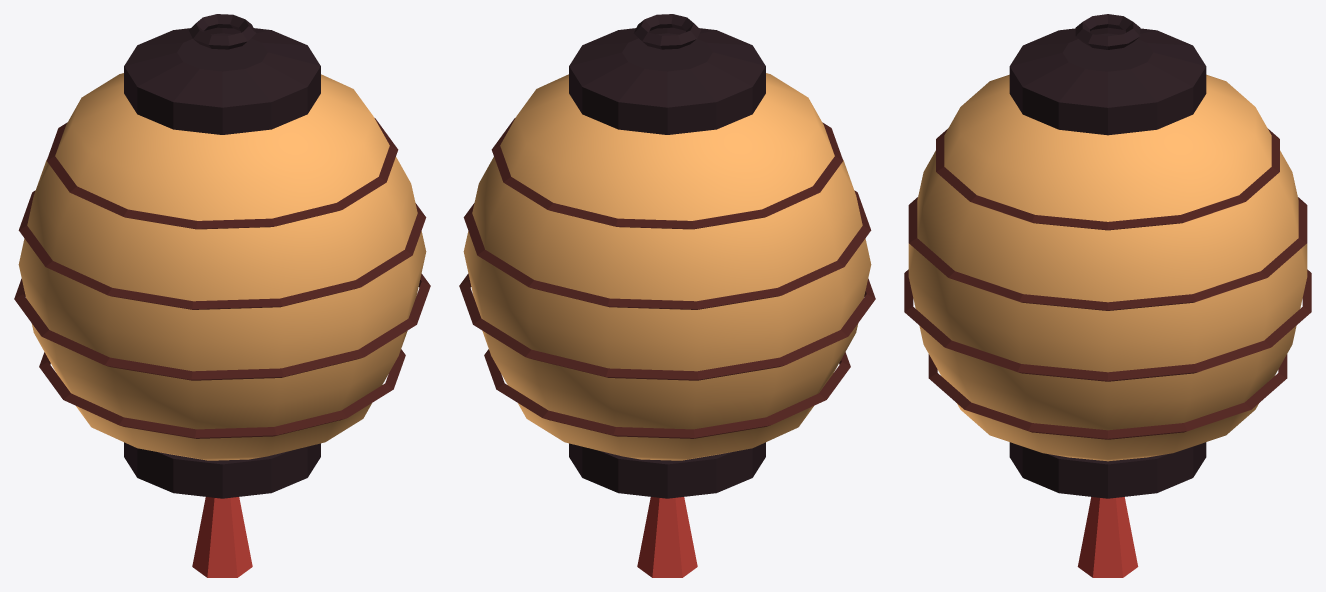
The model's file is paper_lantern.glb.
The picture shows the model from 3 angles, left to right: view 1: azimuth 30°, elevation 25°; view 2: azimuth 150°, elevation 25°; view 3: azimuth 270°, elevation 25°; orthographic projection.
Visible parts, largest first — view 1: glow, caps, ribs, tassel; view 2: glow, caps, ribs, tassel; view 3: glow, caps, ribs, tassel.
Boxes of the visible parts, <box> form: glow: <box>18,73,426,460</box>; caps: <box>124,14,320,498</box>; ribs: <box>14,118,430,438</box>; tassel: <box>192,497,252,577</box>; glow: <box>463,73,871,460</box>; caps: <box>569,14,765,498</box>; ribs: <box>459,118,875,438</box>; tassel: <box>637,497,697,577</box>; glow: <box>908,74,1307,461</box>; caps: <box>1009,14,1206,498</box>; ribs: <box>904,129,1311,439</box>; tassel: <box>1077,497,1138,577</box>.
Size of the model in its own units: 0.552 by 0.79 by 0.5382.
